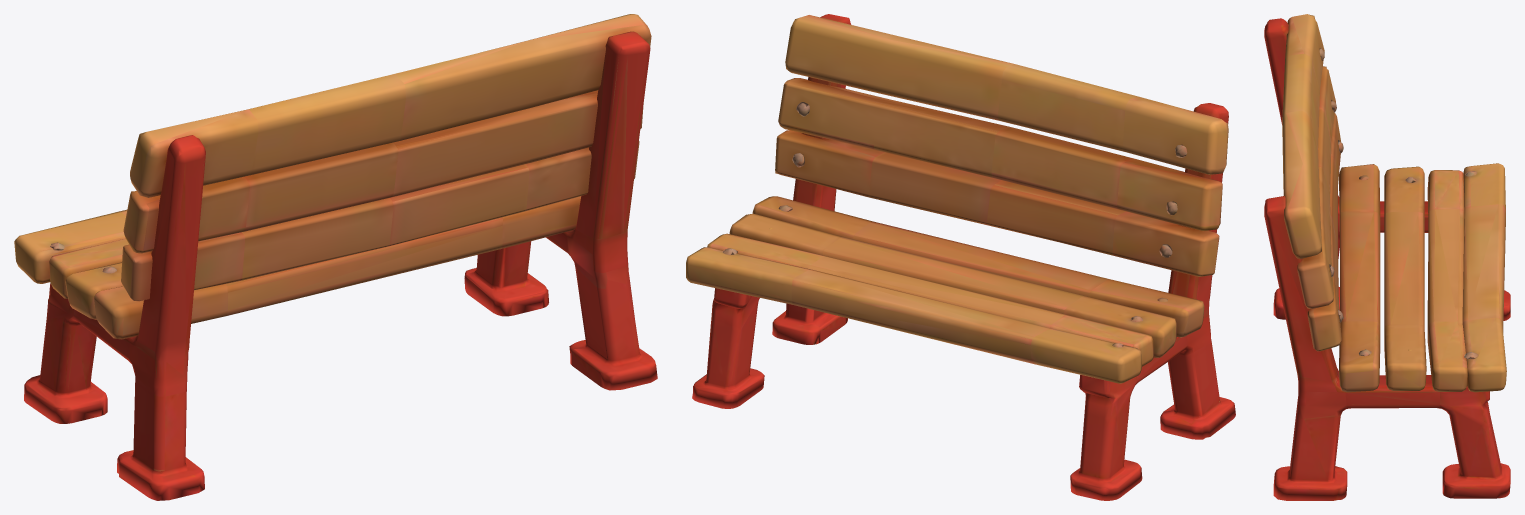
Rendered from bench.glb.
The picture shows the model from 3 angles, left to right: view 1: azimuth 30°, elevation 25°; view 2: azimuth 150°, elevation 25°; view 3: azimuth 270°, elevation 25°; orthographic projection. The views are drawn at different scales.
Parts seen in each view (by area): view 1: tripo_node_874b9a9f-7369-47f6-86b5-22a93c2c589c; view 2: tripo_node_874b9a9f-7369-47f6-86b5-22a93c2c589c; view 3: tripo_node_874b9a9f-7369-47f6-86b5-22a93c2c589c.
Part boxes in pixels (<box>): tripo_node_874b9a9f-7369-47f6-86b5-22a93c2c589c: <box>14,14,657,500</box>; tripo_node_874b9a9f-7369-47f6-86b5-22a93c2c589c: <box>686,14,1235,500</box>; tripo_node_874b9a9f-7369-47f6-86b5-22a93c2c589c: <box>1264,14,1510,500</box>.
Bounding box in the file's own units: 0.998 × 0.6621 × 0.5098.
Materials: 1 (1 with a texture image).
